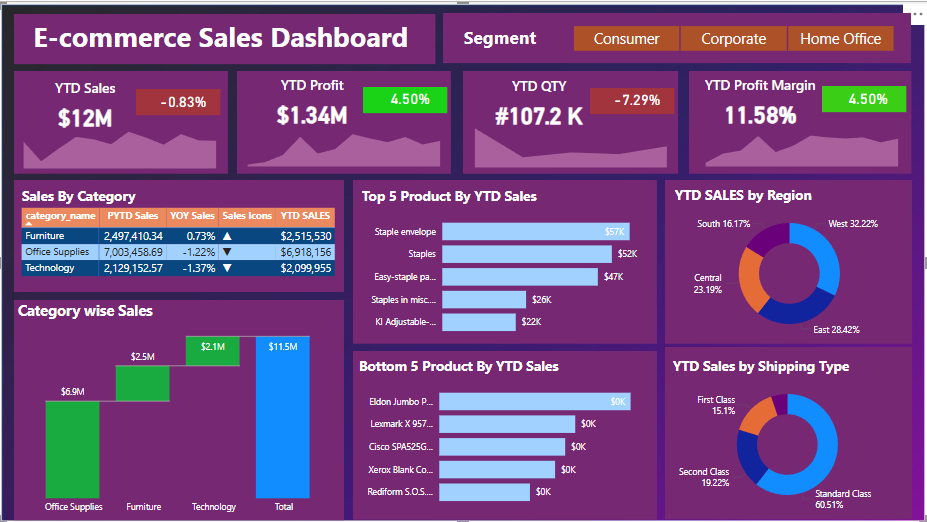

This screenshot's page, from the dashboard's own definition file:
{"tool":"powerbi","page":{"name":"Page 1","canvas":[1280,720],"ordinal":0},"visuals":[{"type":"image","box":[0,0,1280.5,720],"z":0},{"type":"textbox","box":[22,17.6,579.5,68.8],"z":1000},{"type":"shape","box":[612.9,17.1,644.3,68.6],"z":2000},{"type":"textbox","box":[635.7,27.1,131.4,47.1],"z":3000},{"type":"shape","box":[21.4,95.7,294.3,141.4],"z":4000},{"type":"slicer","fields":{"Values":["ecommerce_data.customer_segment"]},"box":[767.1,27.1,490,47.1],"z":5000},{"type":"card","title":"YTD Sales","fields":{"Values":["ecommerce_data.YTD SALES"]},"box":[21.4,105.7,195.7,80],"z":6000},{"type":"shape","box":[328.6,95.7,294.3,141.4],"z":7000},{"type":"shape","box":[640,95.7,295.7,141.4],"z":8000},{"type":"shape","box":[951.4,95.7,305.7,141.4],"z":9000},{"type":"shape","box":[190,121.4,115.7,35.7],"z":10000},{"type":"areaChart","fields":{"Category":["Calendar.Month"],"Y":["Sum(ecommerce_data.sales_per_order)"]},"box":[20.8,155.8,294.2,80],"z":11000},{"type":"card","fields":{"Values":["ecommerce_data.YOY Sales"]},"box":[203.3,122.5,102.5,33.3],"z":12000},{"type":"card","title":"YTD Profit","fields":{"Values":["ecommerce_data.YTD Profit"]},"box":[334.3,102.1,195.7,80],"z":13000},{"type":"shape","box":[502.9,117.9,115.7,35.7],"z":14000},{"type":"areaChart","fields":{"Category":["Calendar.Month"],"Y":["Sum(ecommerce_data.profit_per_order)"]},"box":[328.6,152.9,294.3,80],"z":15000},{"type":"card","fields":{"Values":["ecommerce_data.YOY Profit"]},"box":[516.2,118.9,102.5,33.3],"z":16000},{"type":"card","title":"YTD QTY","fields":{"Values":["ecommerce_data.YTD Concatenate QTY"]},"box":[646.4,103.6,195.7,80],"z":17000},{"type":"shape","box":[815,119.3,115.7,35.7],"z":18000},{"type":"areaChart","fields":{"Category":["ecommerce_data.order_quantity"],"Y":["Sum(ecommerce_data.order_quantity)"]},"box":[640.7,154.3,294.3,80],"z":19000},{"type":"card","fields":{"Values":["ecommerce_data.YOY Qty"]},"box":[828.3,120.4,102.5,33.3],"z":20000},{"type":"card","title":"YTD Profit Margin","fields":{"Values":["ecommerce_data.YTD Profit Margin"]},"box":[951.4,102.1,195.7,80],"z":21000},{"type":"shape","box":[1133.6,117.1,115.7,35.7],"z":22000},{"type":"areaChart","fields":{"Category":["Calendar.Month"],"Y":["ecommerce_data.Profit Margin"]},"box":[959.3,152.1,294.3,80],"z":23000},{"type":"shape","box":[488.3,246.7,418.3,225],"z":24000},{"type":"card","fields":{"Values":["ecommerce_data.YOY Profit"]},"box":[1146.9,118.2,102.5,33.3],"z":25000},{"type":"barChart","title":"Top 5 Product By YTD Sales","fields":{"Category":["ecommerce_data.product_name"],"Y":["ecommerce_data.YTD SALES"]},"box":[495,254,411,218],"z":26000},{"type":"shape","box":[488.3,481.7,418.3,231.7],"z":27000},{"type":"shape","box":[918.3,246.7,340,225],"z":28000},{"type":"shape","box":[918.3,476.7,340,236.7],"z":29000},{"type":"barChart","title":"Bottom 5 Product By YTD Sales","fields":{"Category":["ecommerce_data.product_name"],"Y":["ecommerce_data.YTD SALES"]},"box":[492,489,411,218],"z":30000},{"type":"donutChart","title":"YTD SALES by Region","fields":{"Category":["ecommerce_data.customer_region"],"Y":["ecommerce_data.YTD SALES"]},"box":[925.7,252.9,325.7,218.6],"z":31000},{"type":"donutChart","title":"YTD Sales by Shipping Type","fields":{"Y":["ecommerce_data.YTD SALES"],"Category":["ecommerce_data.shipping_type"]},"box":[922.9,488.6,325.7,218.6],"z":32000},{"type":"shape","box":[21.4,245.7,454.3,154.3],"z":33000},{"type":"shape","box":[22,411.2,453.7,302.9],"z":34000},{"type":"pivotTable","title":"Sales By Category","fields":{"Rows":["ecommerce_data.category_name"],"Values":["ecommerce_data.PYTD Sales","ecommerce_data.YOY Sales","ecommerce_data.Sales Icons","ecommerce_data.YTD SALES"]},"box":[27.1,254.3,441.4,141.4],"z":35000},{"type":"waterfallChart","title":"Category wise Sales","fields":{"Category":["ecommerce_data.category_name"],"Y":["ecommerce_data.YTD SALES"]},"box":[22,411.2,453.7,302.9],"z":36000}]}

Visuals, with their boxes in screenshot pixels (x1, y1, x2, y2), scaled from the page's 1280x720 canvas onto the 927x522 screenshot:
image: 0 0 926 521
textbox: 16 13 436 63
shape: 444 12 910 62
textbox: 460 20 556 54
shape: 15 69 229 172
slicer - ecommerce_data.customer_segment: 556 20 910 54
"YTD Sales" card: 15 77 157 135
shape: 238 69 451 172
shape: 464 69 678 172
shape: 689 69 910 172
shape: 138 88 221 114
areaChart - Calendar.Month x Sum(ecommerce_data.sales_per_order): 15 113 228 171
card - ecommerce_data.YOY Sales: 147 89 221 113
"YTD Profit" card: 242 74 384 132
shape: 364 85 448 111
areaChart - Calendar.Month x Sum(ecommerce_data.profit_per_order): 238 111 451 169
card - ecommerce_data.YOY Profit: 374 86 448 110
"YTD QTY" card: 468 75 610 133
shape: 590 86 674 112
areaChart - ecommerce_data.order_quantity x Sum(ecommerce_data.order_quantity): 464 112 677 170
card - ecommerce_data.YOY Qty: 600 87 674 111
"YTD Profit Margin" card: 689 74 831 132
shape: 821 85 905 111
areaChart - Calendar.Month x ecommerce_data.Profit Margin: 695 110 908 168
shape: 354 179 657 342
card - ecommerce_data.YOY Profit: 831 86 905 110
"Top 5 Product By YTD Sales" barChart: 358 184 656 342
shape: 354 349 657 517
shape: 665 179 911 342
shape: 665 346 911 517
"Bottom 5 Product By YTD Sales" barChart: 356 355 654 513
"YTD SALES by Region" donutChart: 670 183 906 342
"YTD Sales by Shipping Type" donutChart: 668 354 904 513
shape: 15 178 345 290
shape: 16 298 345 518
"Sales By Category" pivotTable: 20 184 339 287
"Category wise Sales" waterfallChart: 16 298 345 518
